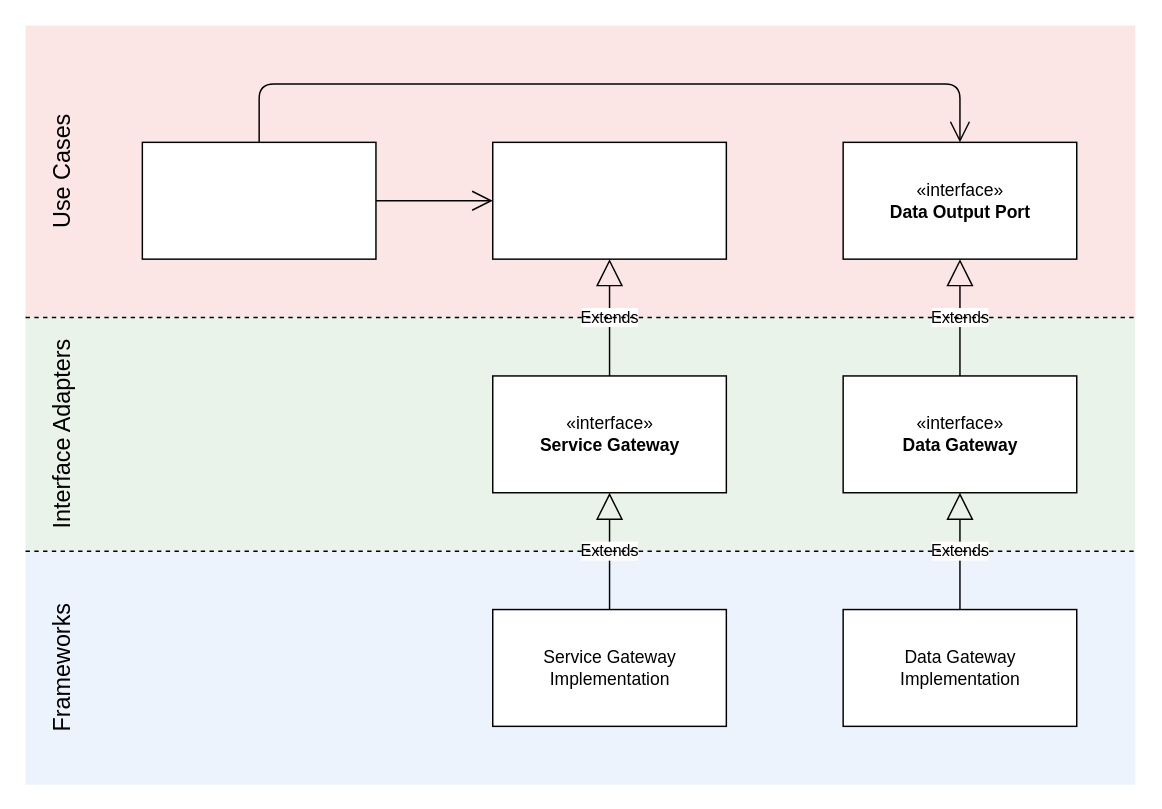
Image size: 1162x809. Some labels were removed from this diagram. Each missing label, with the centre of its shape:
Use Case: point 258,200
«interface» Service Output Port: point 608,200
